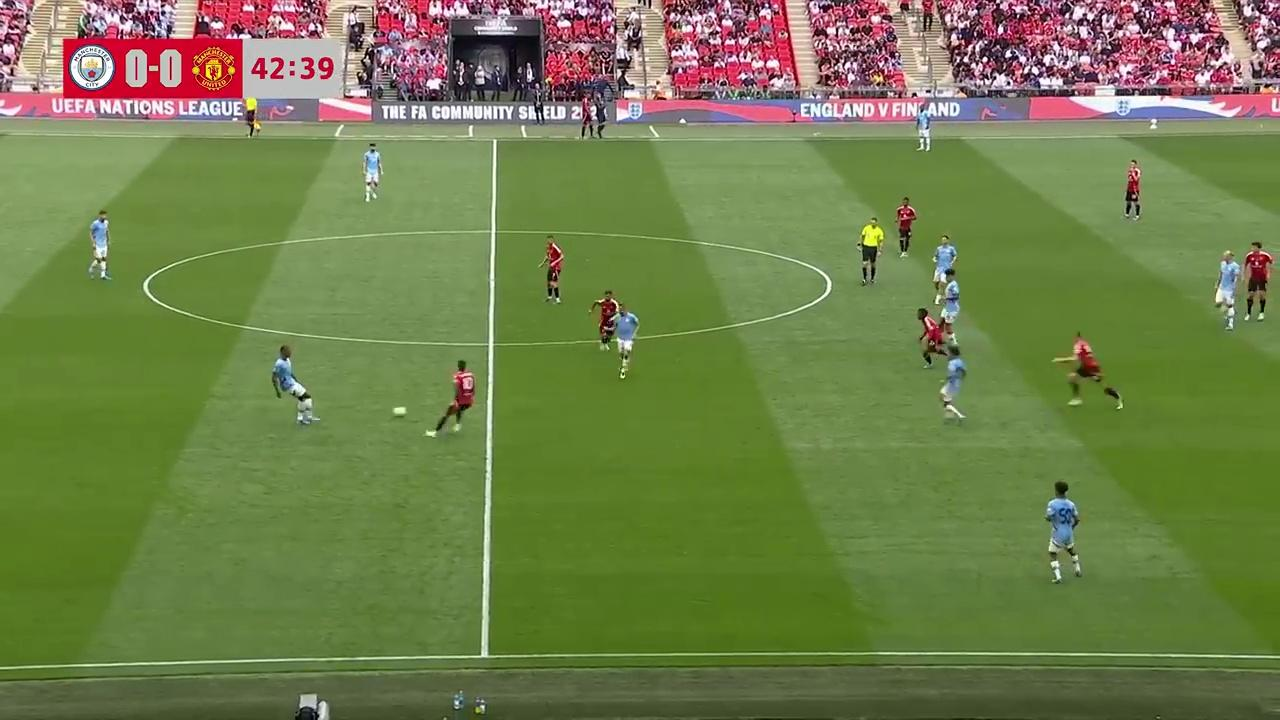player: (1055, 331, 1123, 408), (426, 359, 476, 437), (1045, 480, 1082, 582), (274, 346, 318, 426), (1241, 241, 1273, 321), (271, 344, 310, 407), (938, 344, 967, 424), (281, 371, 319, 426), (1214, 250, 1240, 325), (916, 308, 948, 368), (587, 289, 618, 350), (935, 277, 960, 352), (616, 302, 639, 379), (538, 235, 563, 304), (87, 209, 111, 280), (931, 234, 956, 298), (894, 196, 918, 258), (361, 143, 383, 201), (1123, 159, 1141, 220), (916, 108, 932, 152), (578, 100, 596, 139)
referee: (857, 217, 885, 285), (244, 93, 261, 137)
